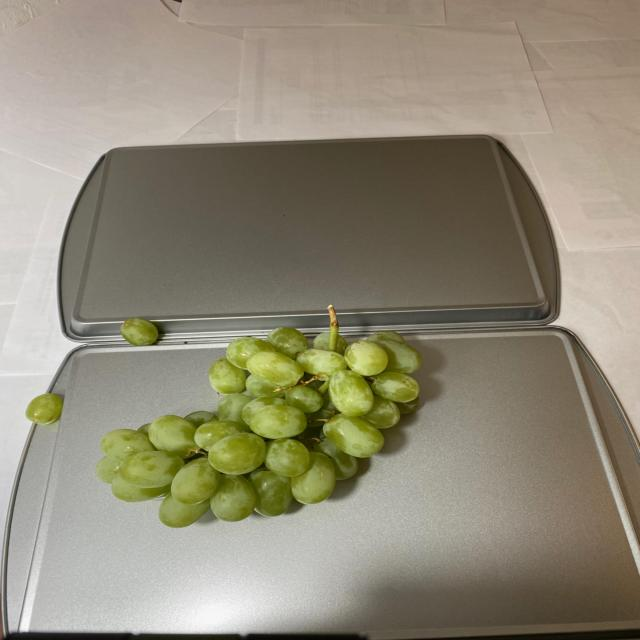Grapes: (96, 313, 461, 531), (24, 392, 67, 430)
